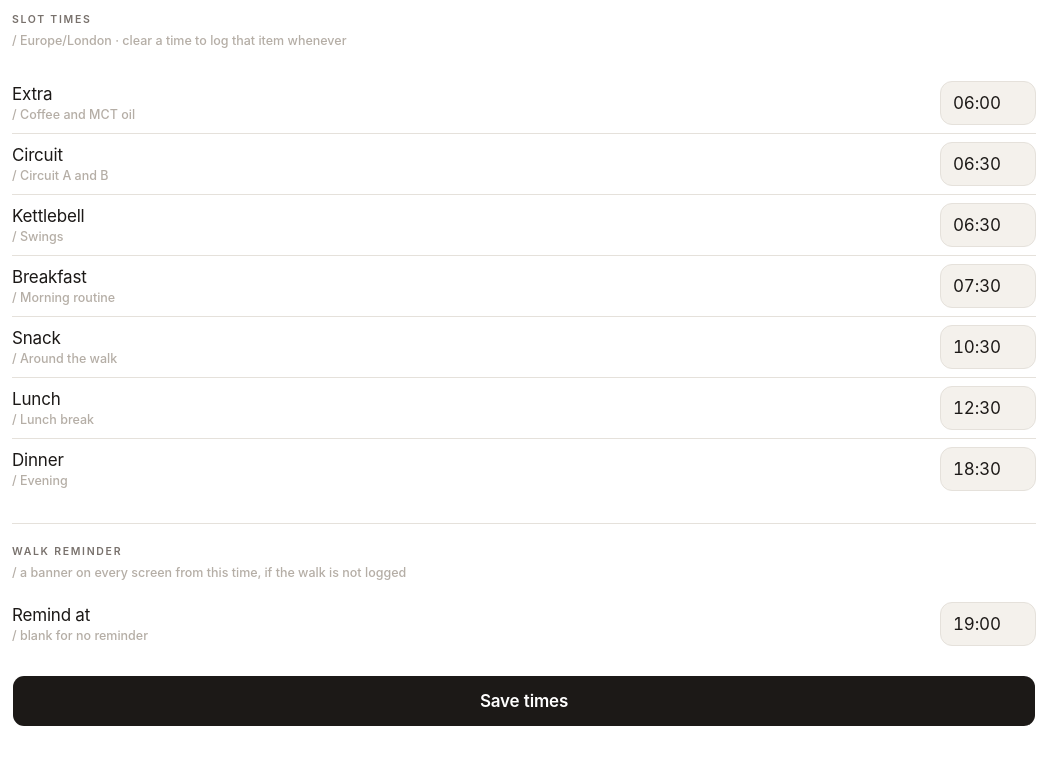
Test case: a refused submission › keeps the typed values rather than resetting the form
The image size is (1048, 780).
Replace the text in the field labelled "Dinner" with "21:00": (988, 469) [940,447,1036,491]
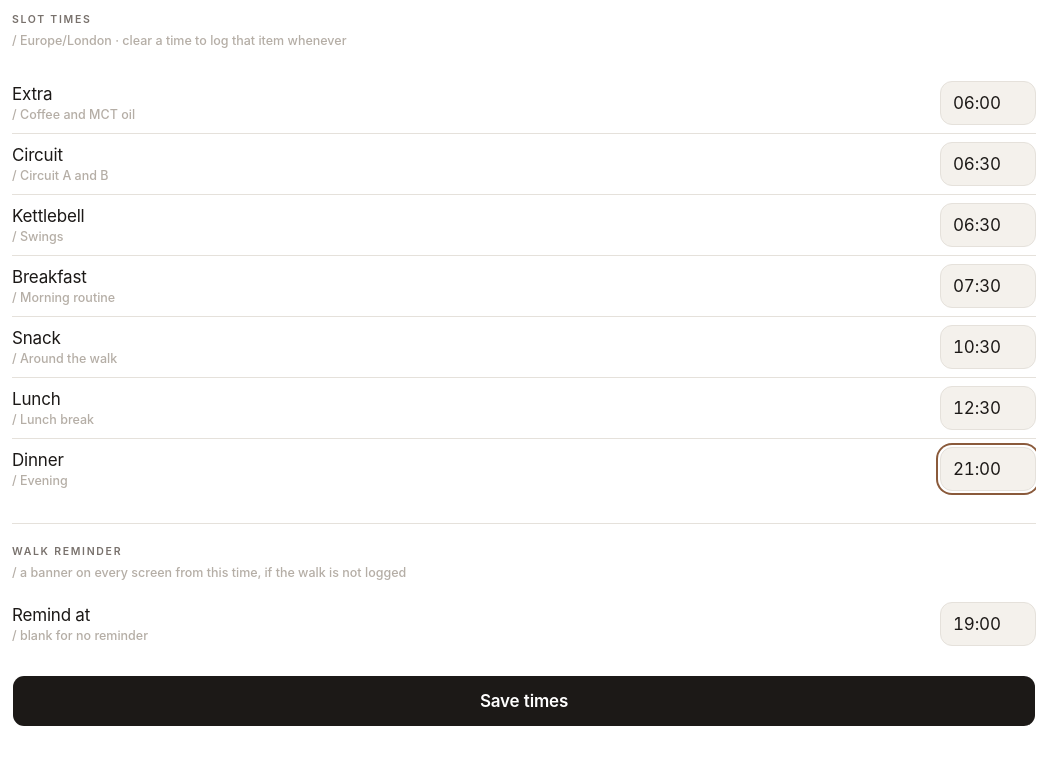
Click the button "Save times": (524, 701) [12,675,1036,727]
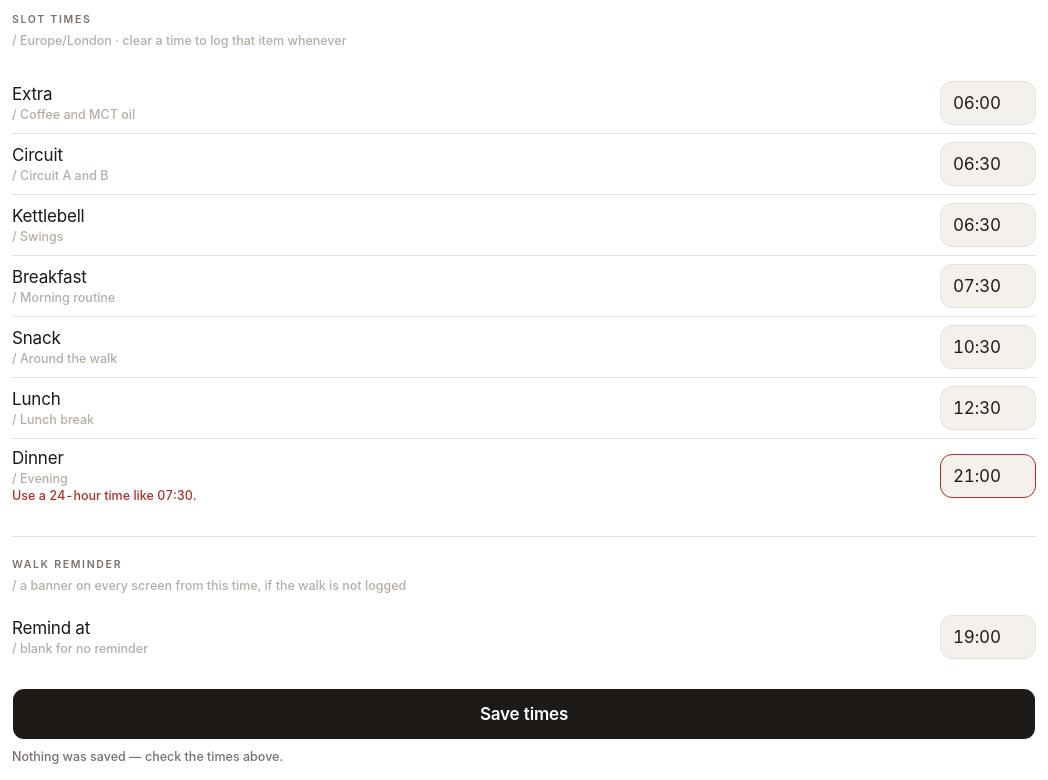
Check: the text "Nothing was saved — check the times above." is shown, box [12,749,283,764]
